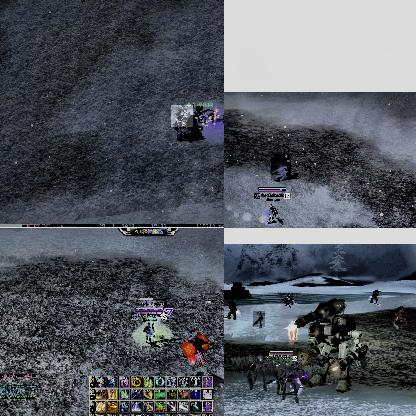caliana: (280, 363, 301, 403), (246, 354, 268, 390), (271, 154, 291, 180), (171, 105, 193, 127), (177, 127, 199, 141), (253, 311, 265, 327)
